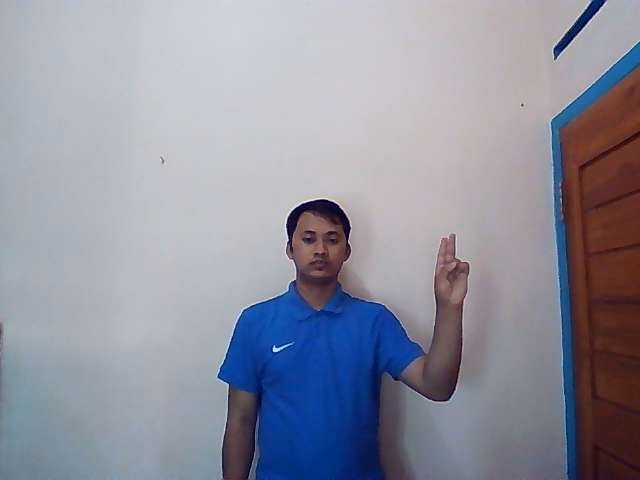U: (432, 232, 470, 307)
